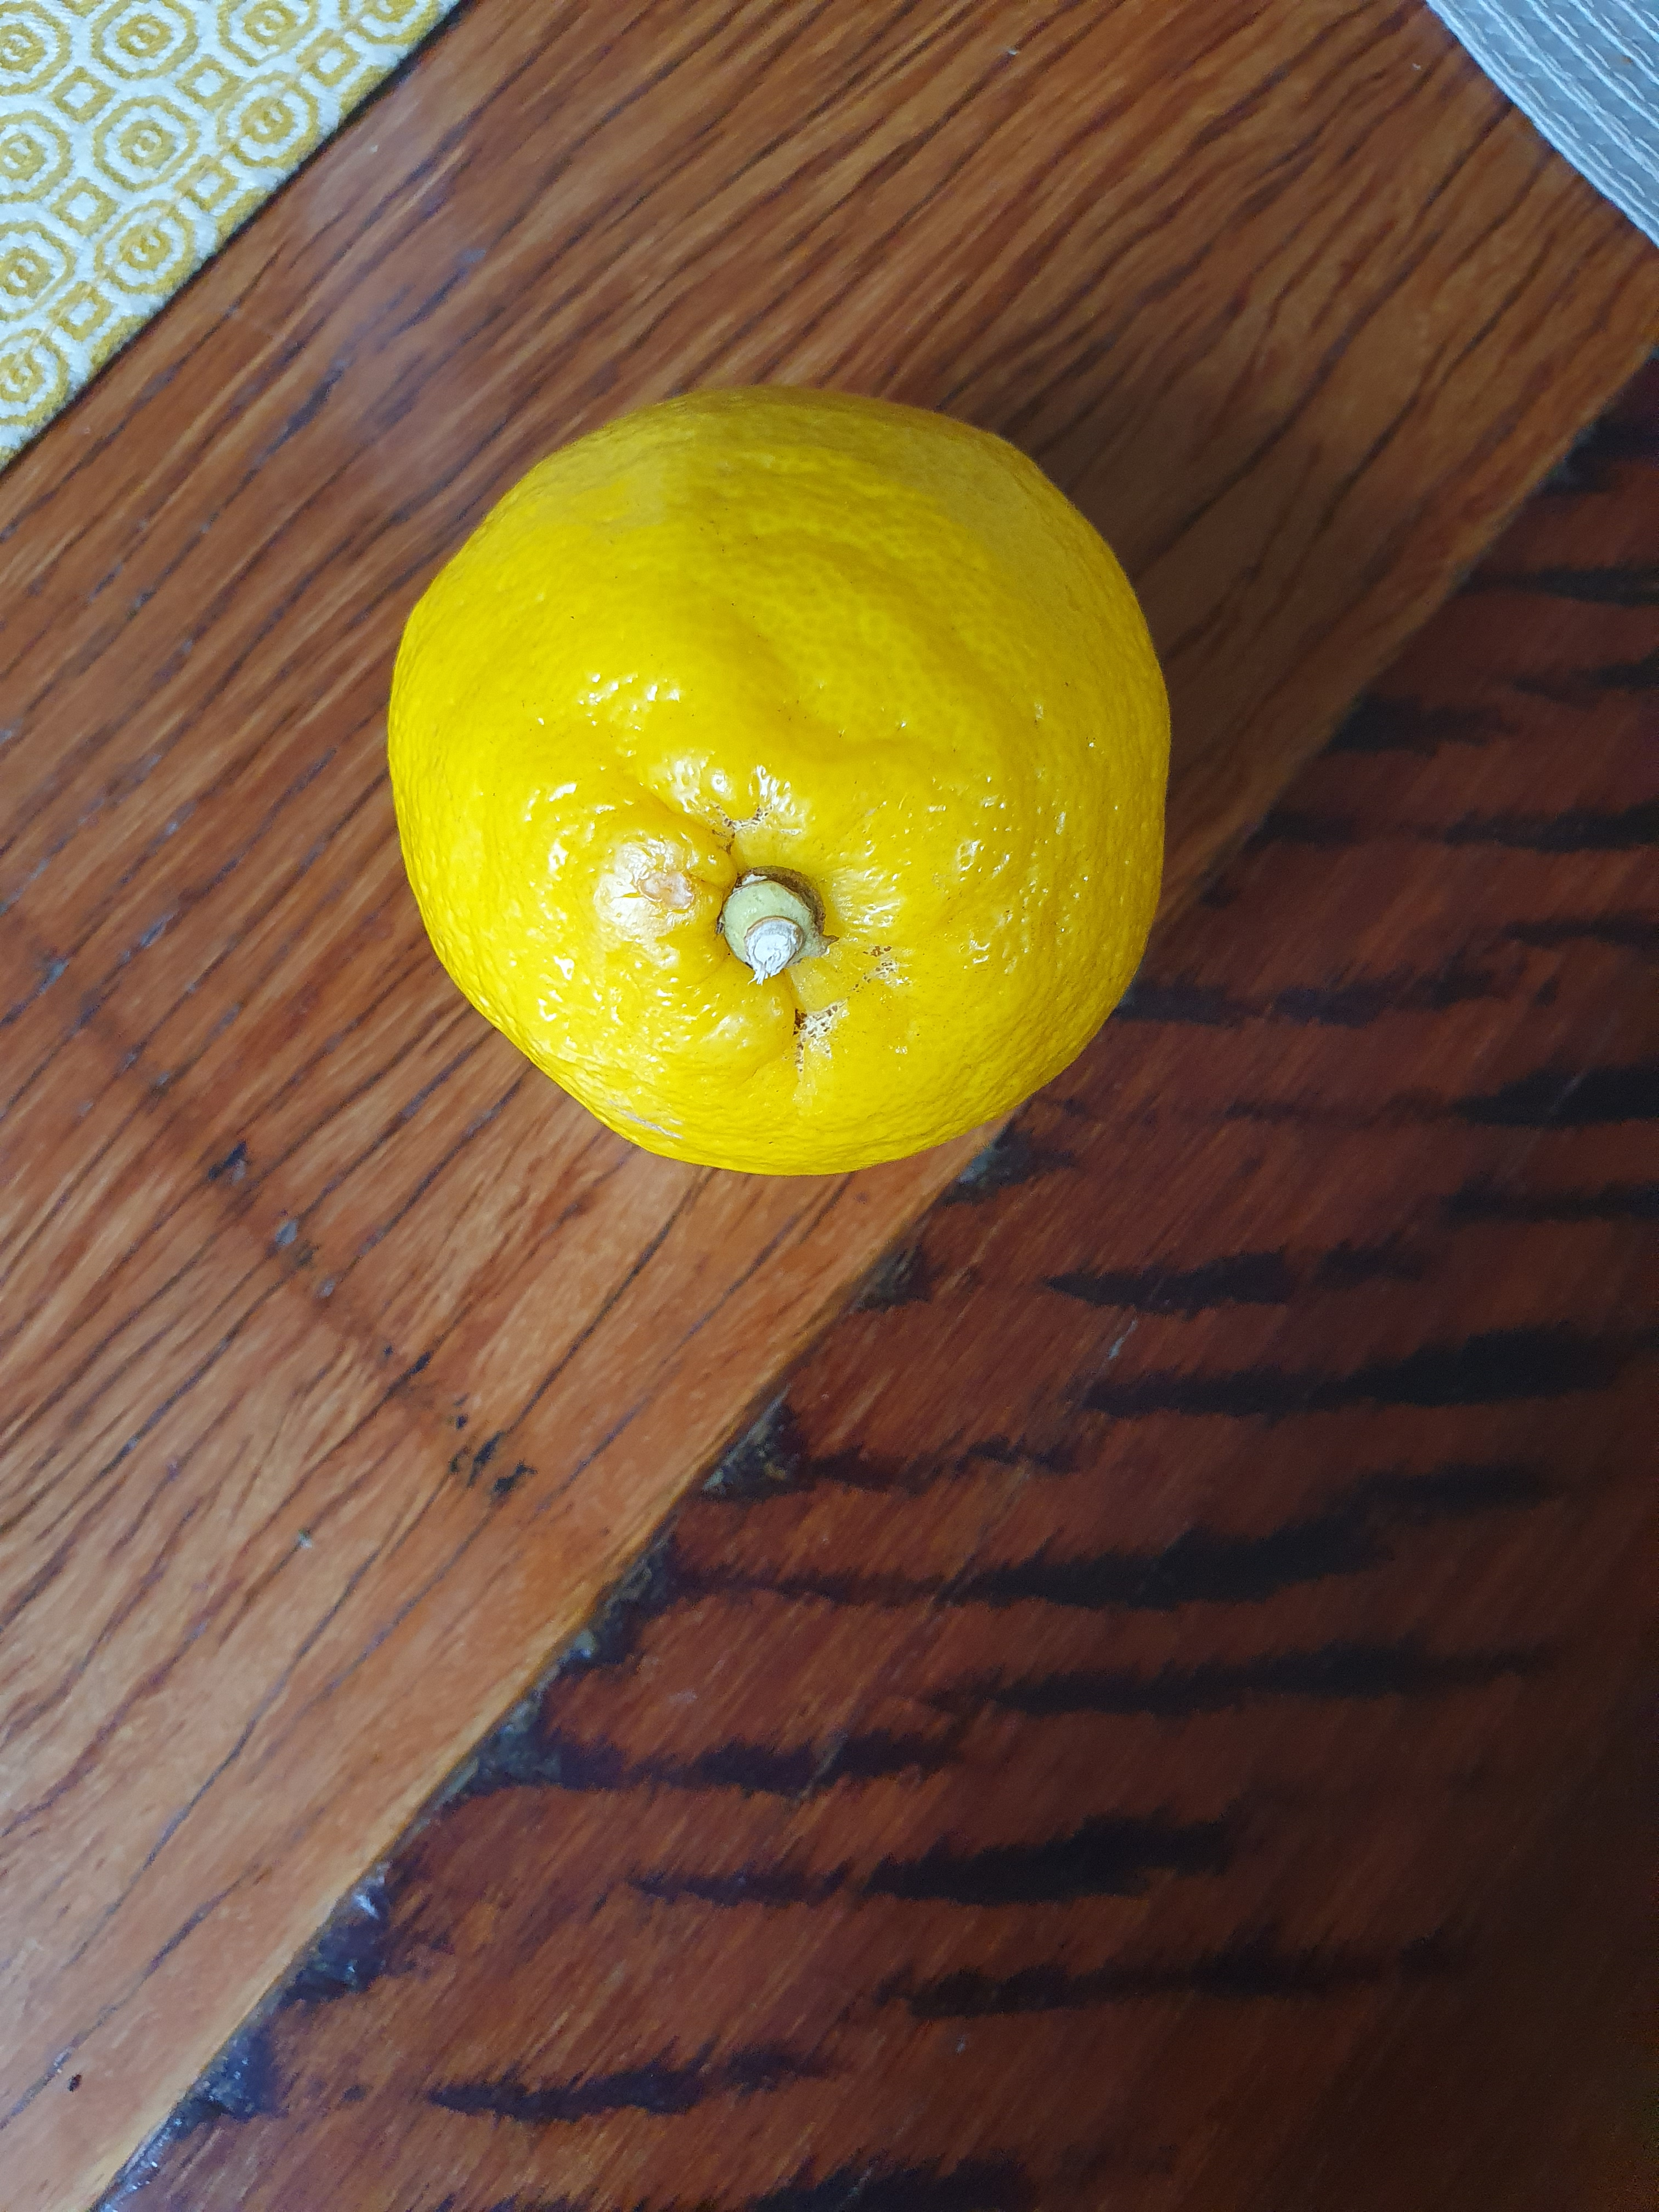lemon: (356, 385, 1194, 1190)
